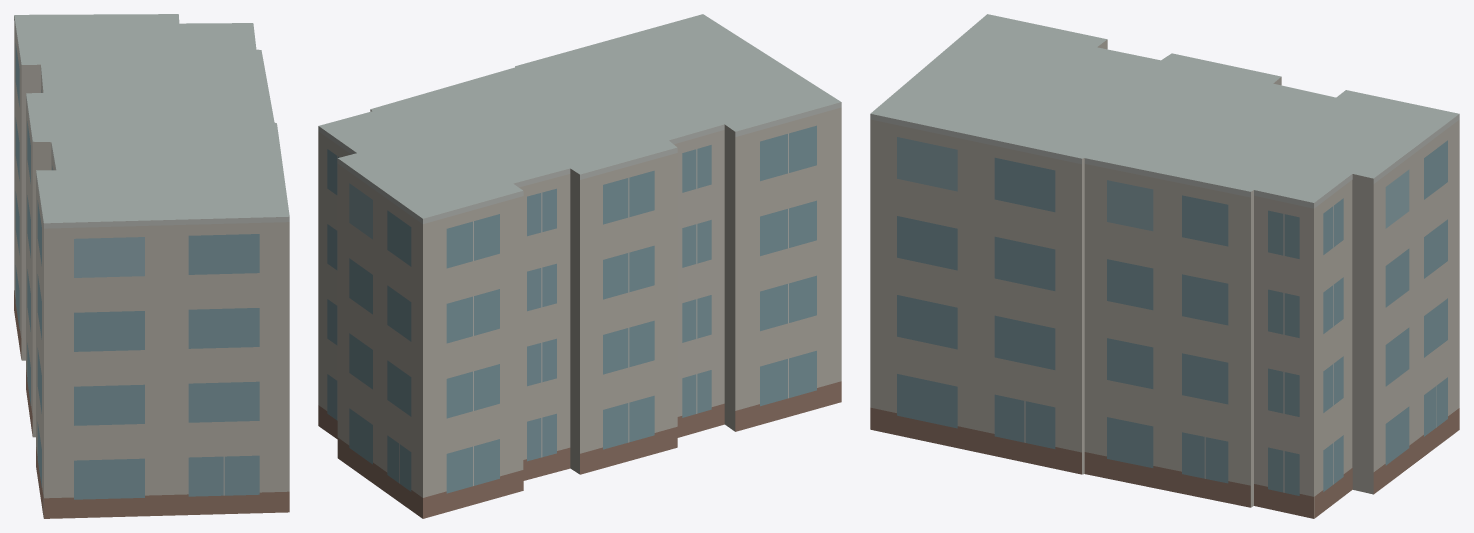
Rendered from survey-upis-32671169.glb.
3 renders of one model, left to right at view 1: azimuth 30°, elevation 25°; view 2: azimuth 150°, elevation 25°; view 3: azimuth 270°, elevation 25°, orthographic. The views are drawn at different scales.
Parts seen in each view (by area): view 1: survey-upis-32671169.tmp; view 2: survey-upis-32671169.tmp; view 3: survey-upis-32671169.tmp.
Boxes of the visible parts, x1,y1,x2,y2 form: survey-upis-32671169.tmp: [14, 14, 289, 518]; survey-upis-32671169.tmp: [318, 14, 841, 518]; survey-upis-32671169.tmp: [870, 14, 1459, 518].
Bounding box in the file's own units: 17.46 × 13.6 × 23.01.
